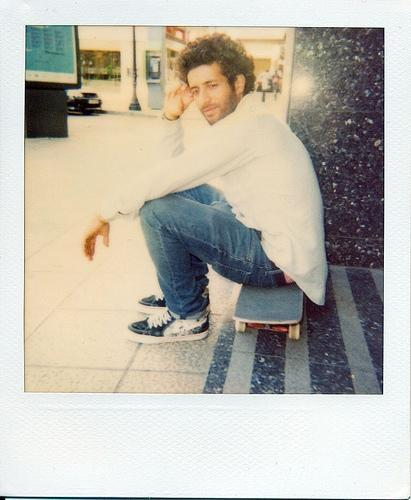car: (66, 90, 102, 114)
